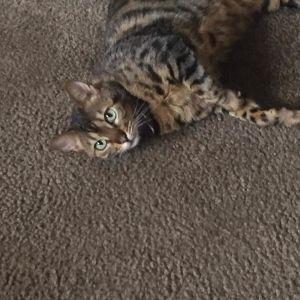bengal: (47, 77, 158, 163)
